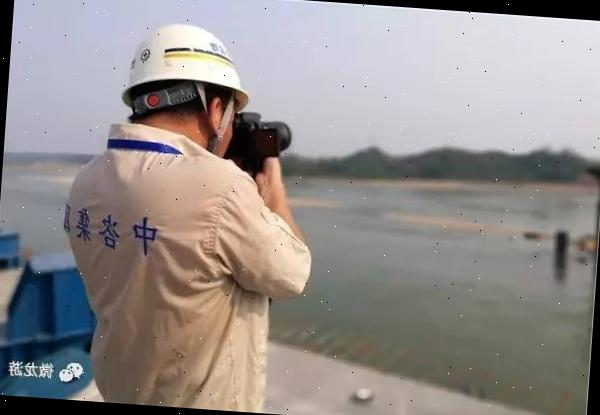helmet: (123, 21, 260, 115)
wear: (67, 146, 278, 413)
